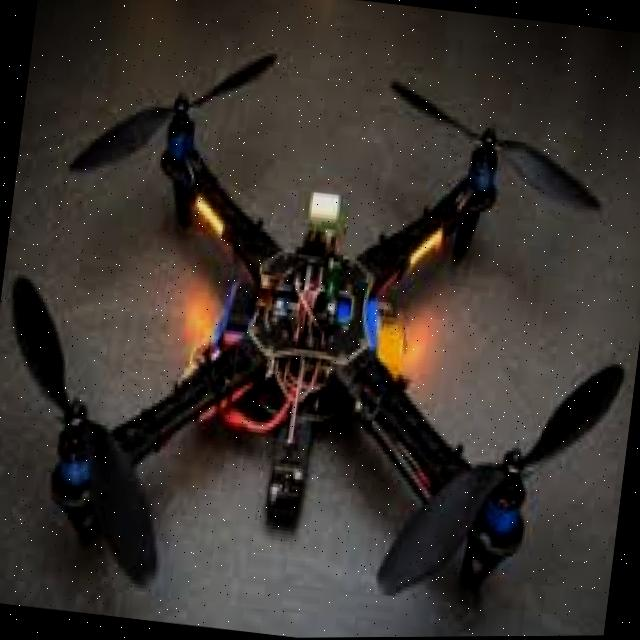drone: (0, 34, 637, 640)
